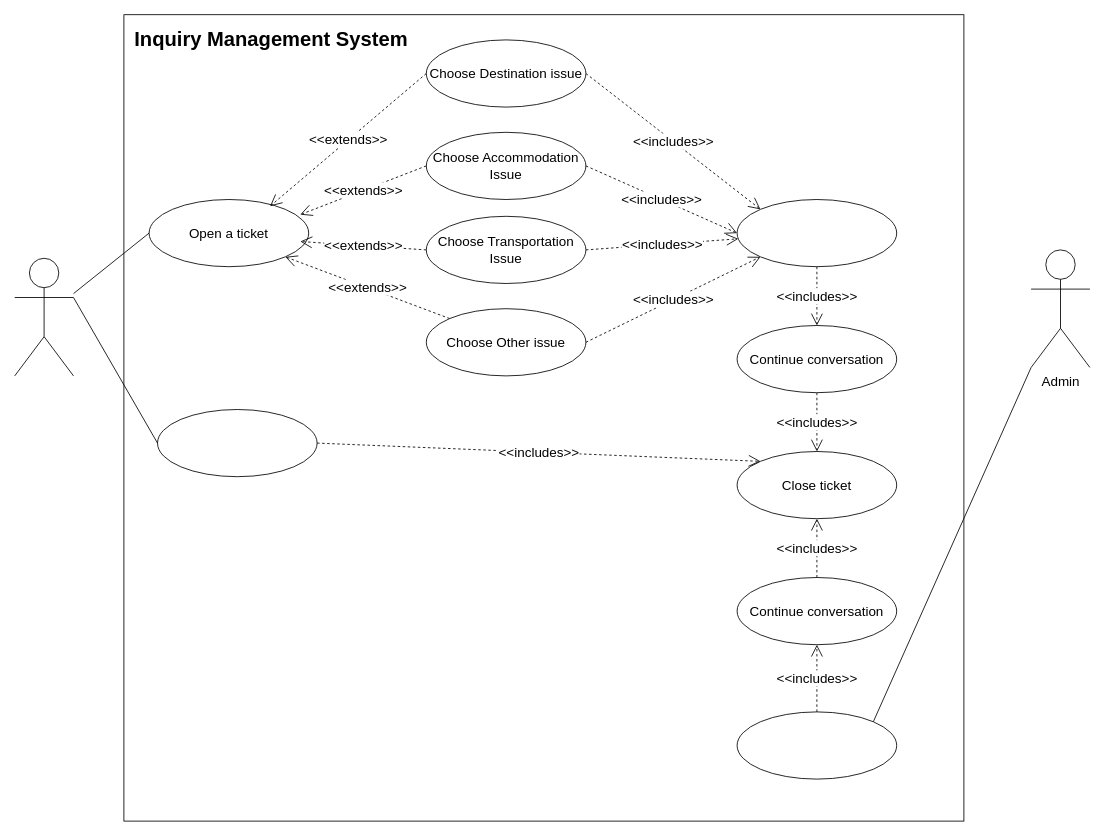
This 1105x836 diagram has some shape labels left out. Here are the shapes that lost their labels. From the top down, the centre of each, then its label:
pixel 816 233: Submit ticket
pixel 44 316: User
pixel 237 443: View previously opened tickets
pixel 816 745: View submitted tickets
